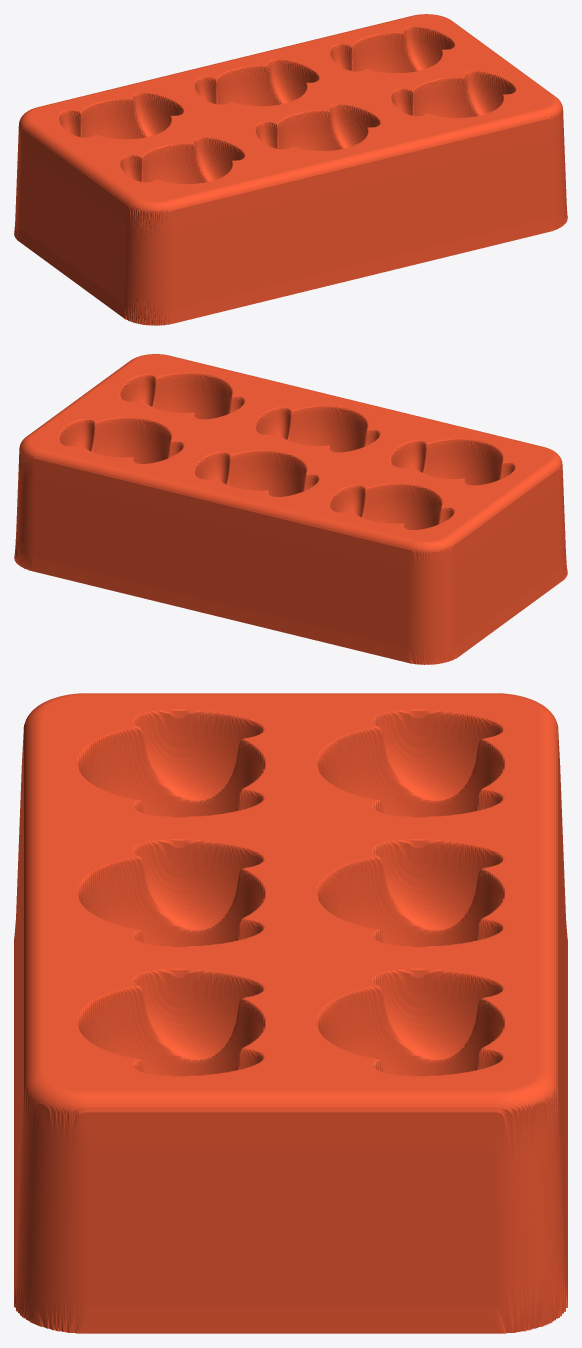
Rendered from mold.glb.
3 views of the same model, one above another, from view 1: azimuth 30°, elevation 25°; view 2: azimuth 150°, elevation 25°; view 3: azimuth 270°, elevation 25° (orthographic). The views are drawn at different scales.
Parts seen in each view (by area): view 1: geometry_0; view 2: geometry_0; view 3: geometry_0.
Part boxes in pixels (x1,y1,x2,y2): geometry_0: (14,14,567,325); geometry_0: (14,354,567,664); geometry_0: (14,693,567,1333).
Size of the model in its own units: 0.1227 by 0.0314 by 0.0683.
